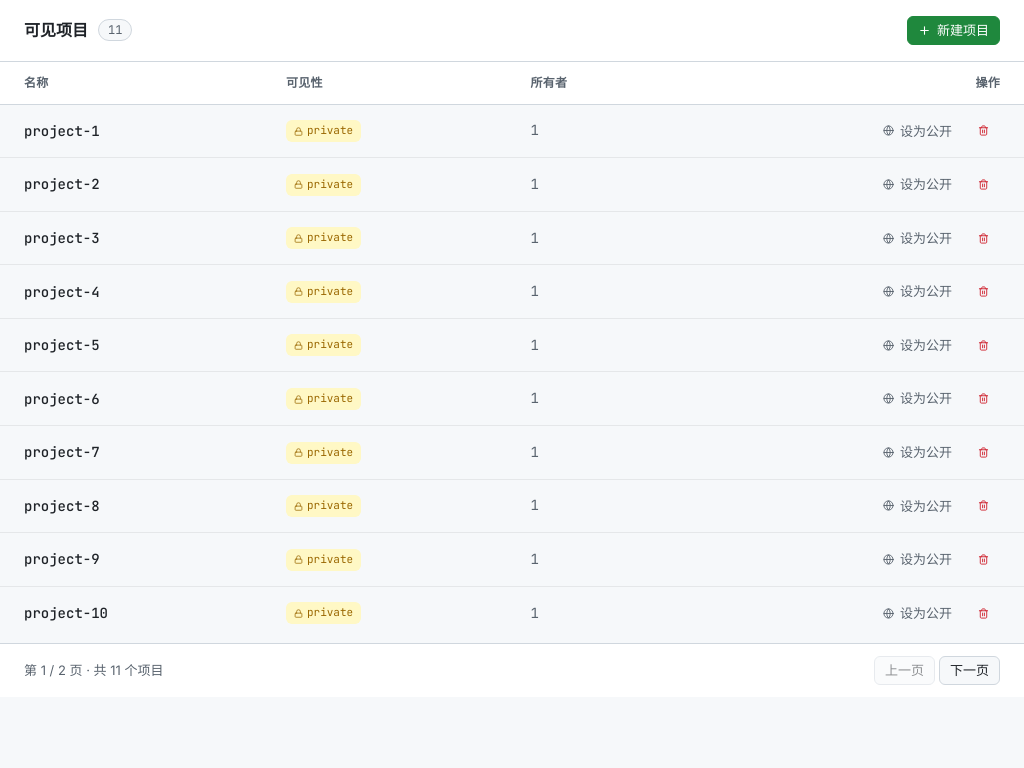
Test: ProjectsPage pagination › steps back one page when deleting the last row of the current page
The width and height of the screenshot is (1024, 768).
Expected: the text "project-1" is shown, 24,122 -> 100,140
Click the button "下一页". click: click(970, 671)
box: 939,656 -> 1000,685
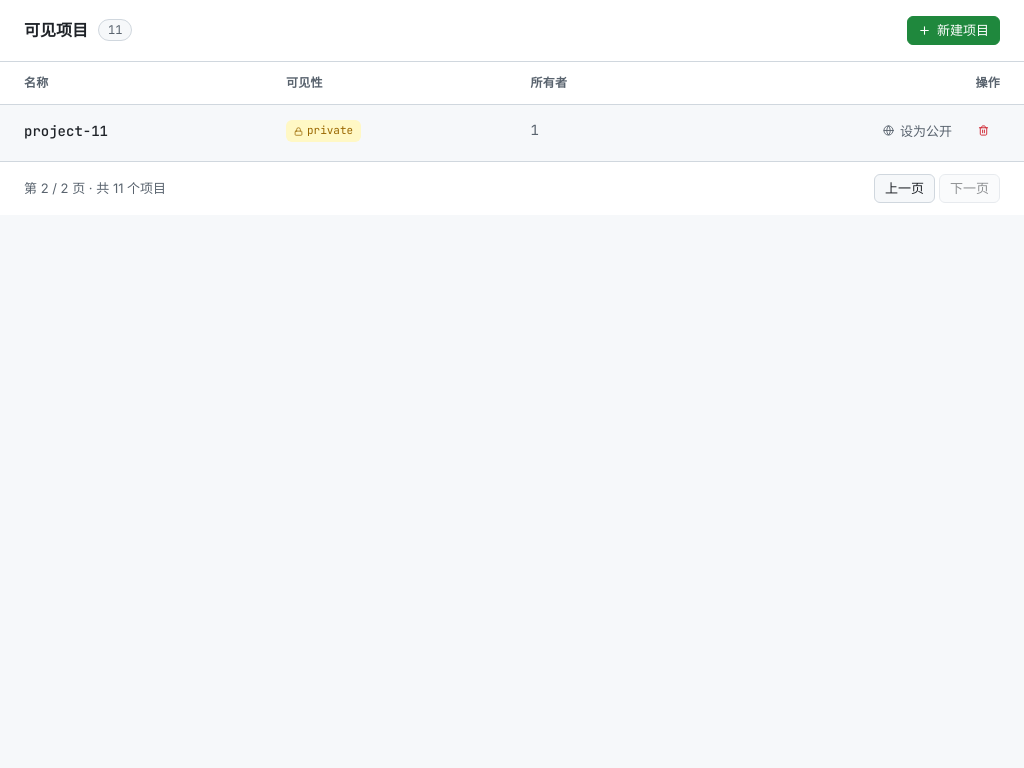
Expected: the text "project-11" is shown, 24,122 -> 108,140
Click the button named "删除项目". click: click(984, 131)
box: 967,120 -> 1000,141
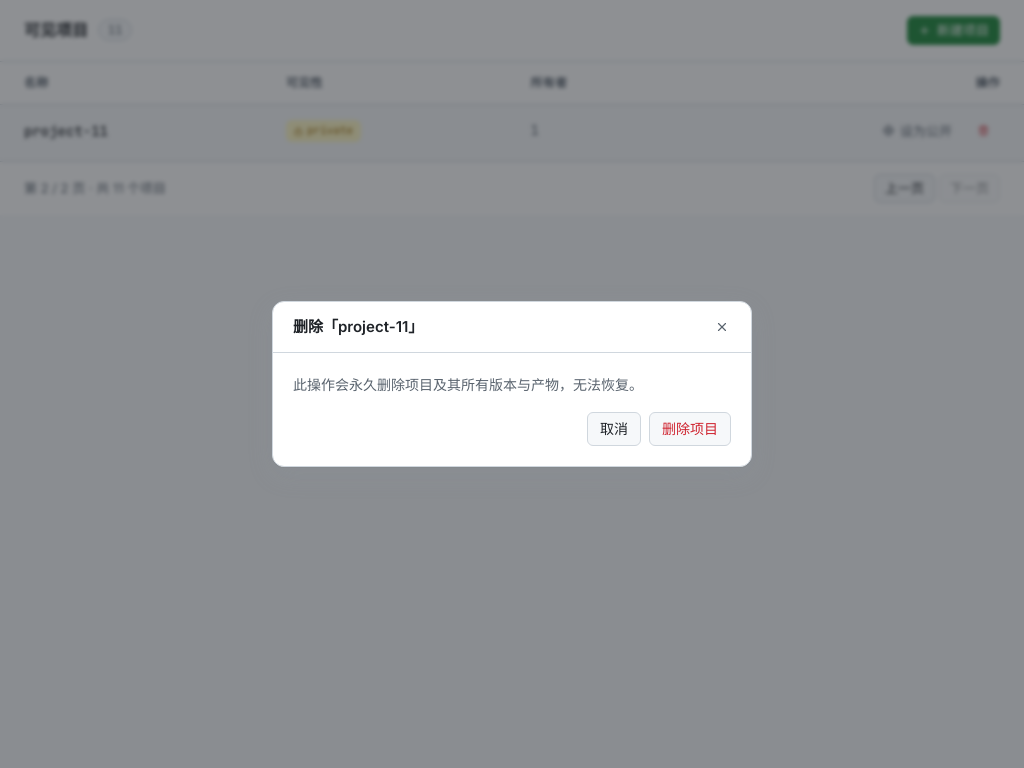
Click the button "删除项目". click: click(690, 429)
box: 649,412 -> 731,446
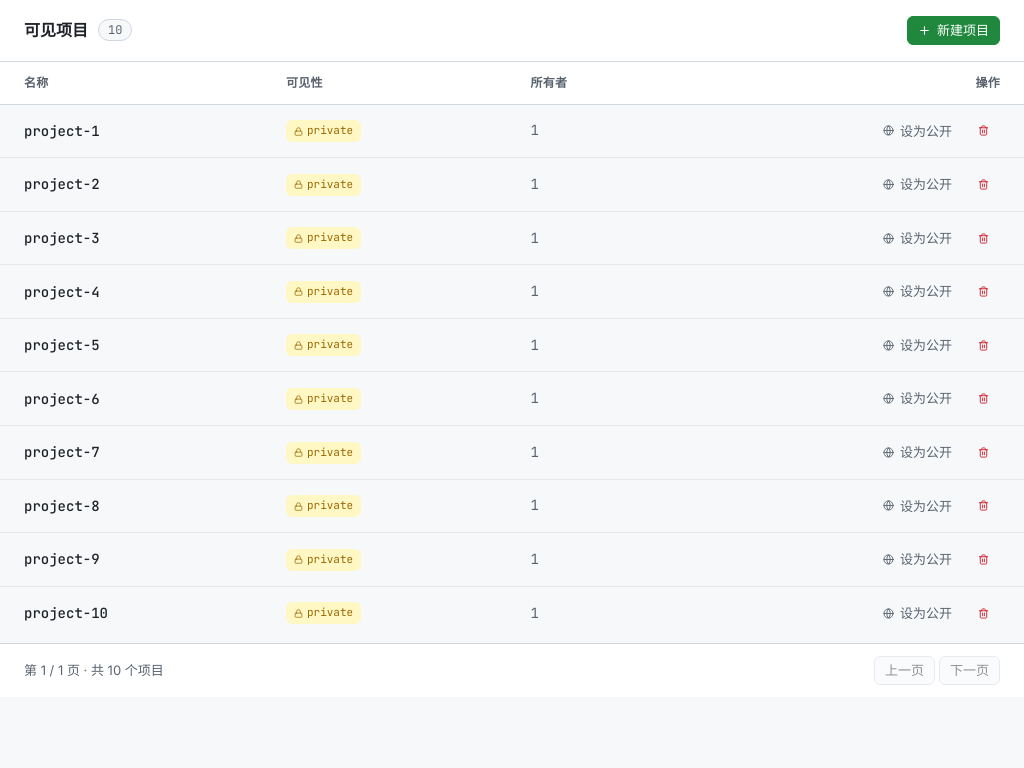
Expected: the text "project-1" is shown, 24,122 -> 100,140
Expected: the text "第 1 / 1 页 · 共 10 个项目" is shown, 24,661 -> 164,680
